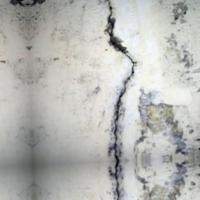crack: (88, 1, 147, 199)
